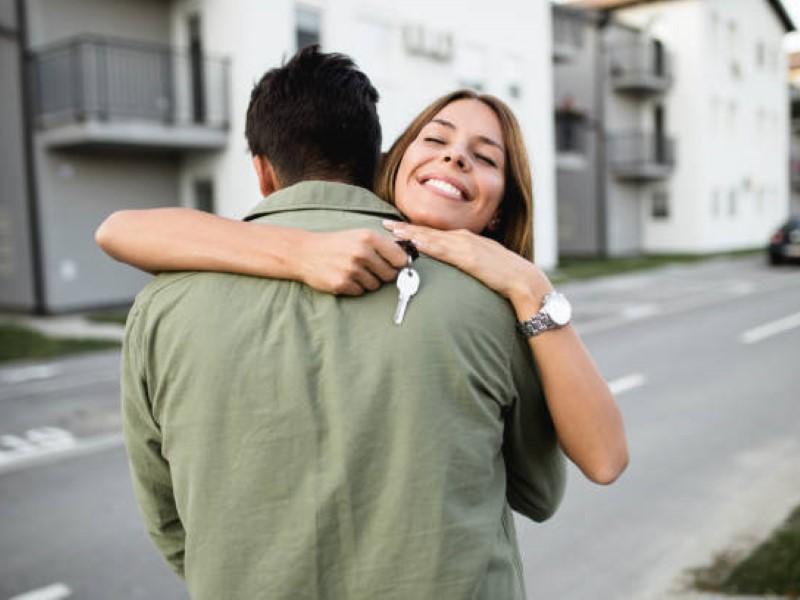key: (392, 252, 421, 325)
